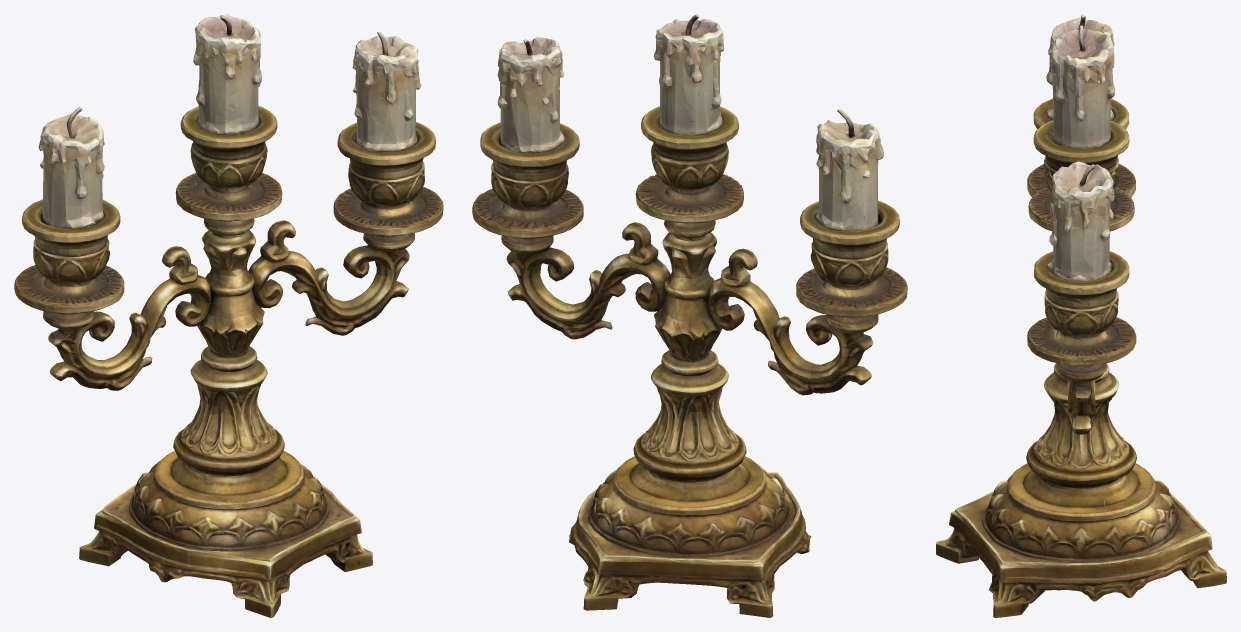
The model's file is dress-candelabra.glb.
3 renders of one model, left to right at view 1: azimuth 30°, elevation 25°; view 2: azimuth 150°, elevation 25°; view 3: azimuth 270°, elevation 25°, orthographic. The views are drawn at different scales.
Size of the model in its own units: 0.7992 by 0.9997 by 0.4877.
1 material, 1 textured.
